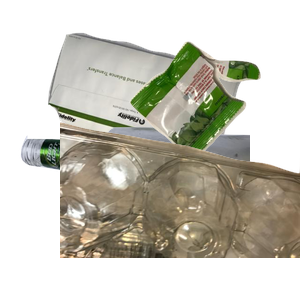glass: (18, 124, 258, 300)
paper: (45, 30, 281, 195)
plastic: (60, 120, 300, 300)
trash: (127, 39, 300, 193)
